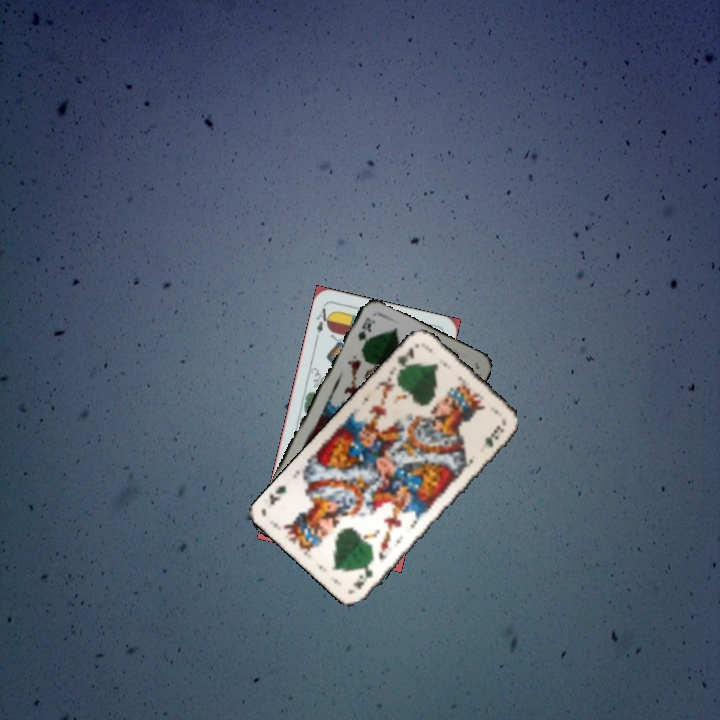EA: (312, 302, 333, 342)
GK: (393, 343, 417, 377), (349, 563, 376, 592), (354, 313, 376, 343)
